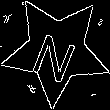N_N: (29, 20, 84, 82)
